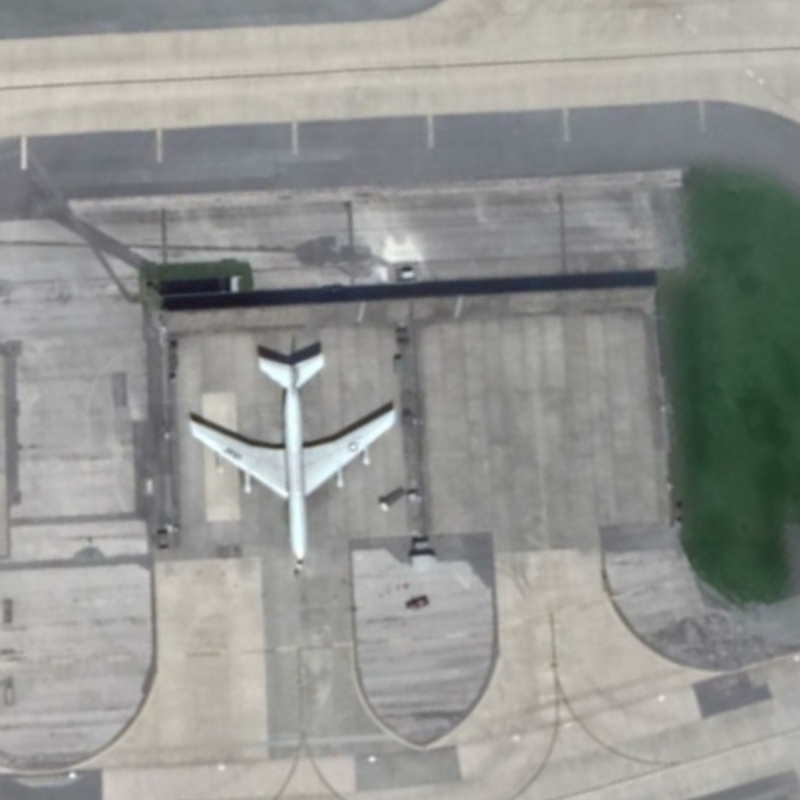A11: (179, 337, 405, 583)
